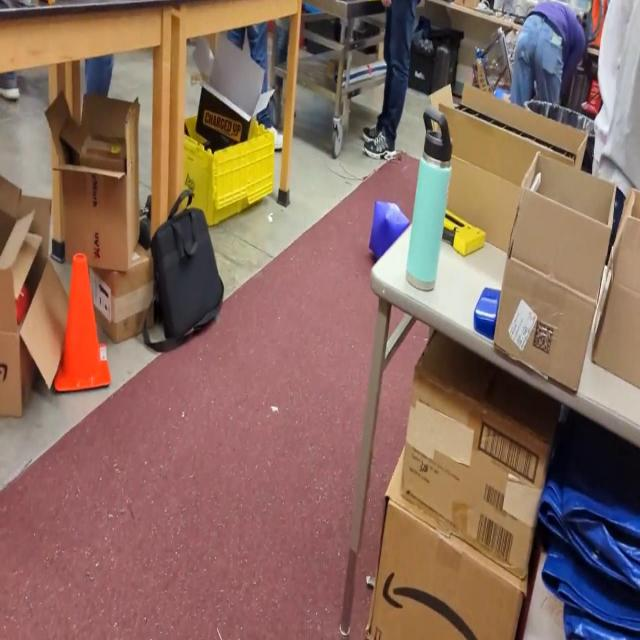frc_cube: (367, 199, 409, 268)
